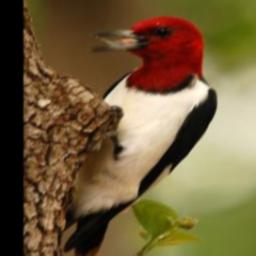Woodpecker: (64, 15, 219, 256)
